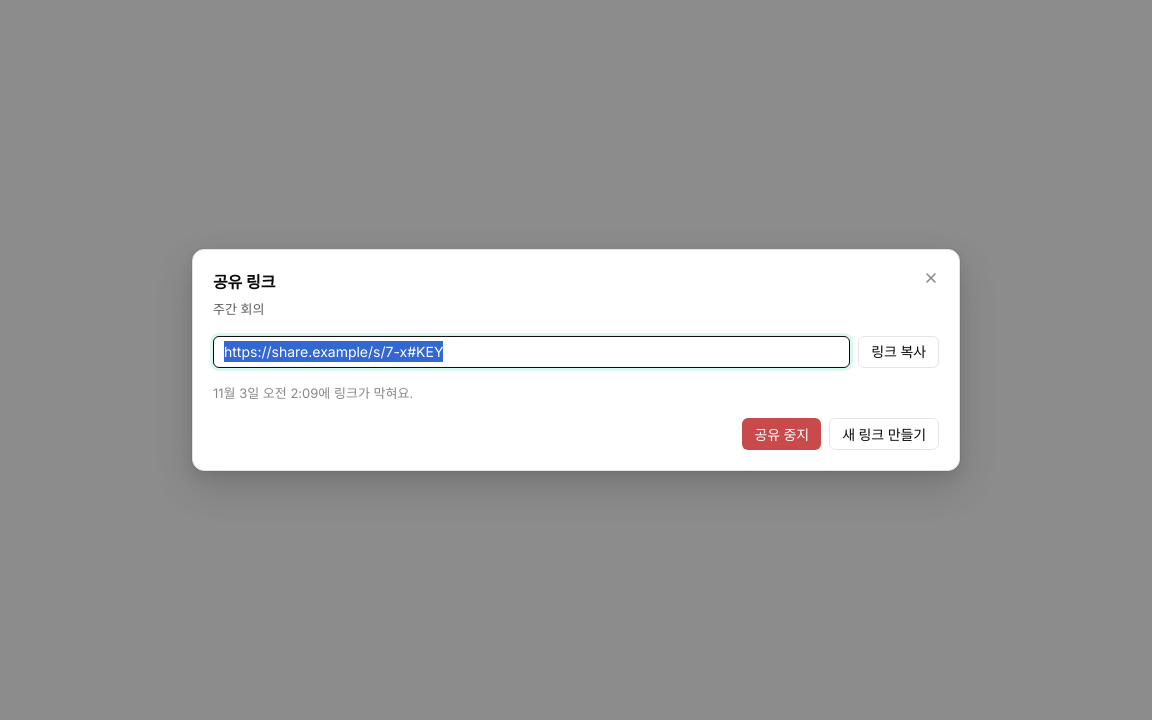
이미 공유 중이면 새 링크 화면에 기존 링크 중지 경고가 뜬다
Click the button "새 링크 만들기" at (884, 434), box [829,418,939,450]
(page scrolled)
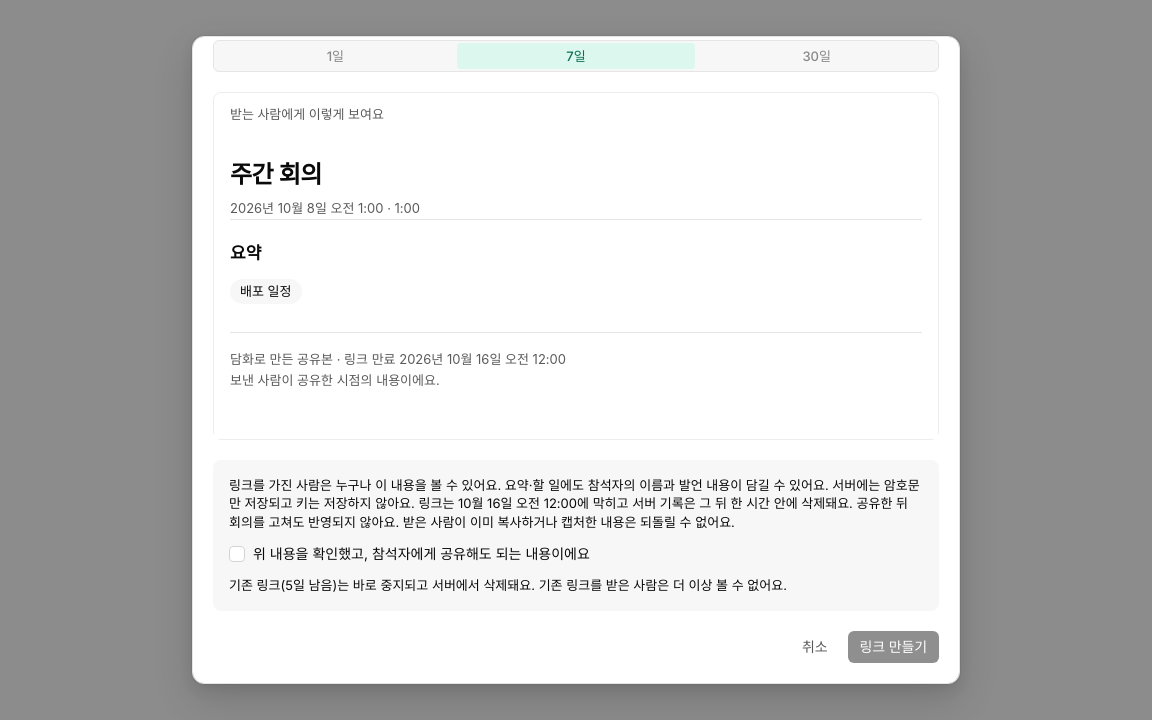
expect the text "기존 링크(5일 남음)는 바로 중지되고 서버에서 삭제돼요. 기존 링크를 받은 사람은 더 이상 볼 수 없어요." is shown: met, box [229,577,787,593]
